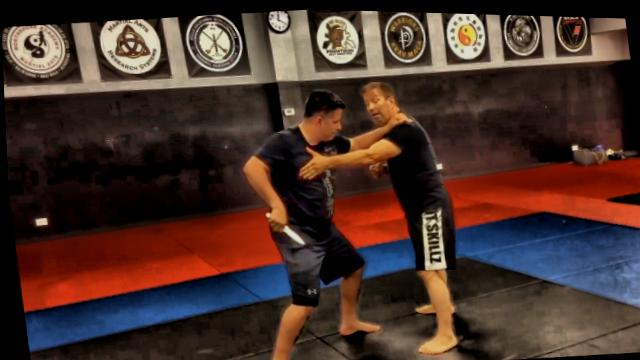knife: (259, 203, 308, 251)
